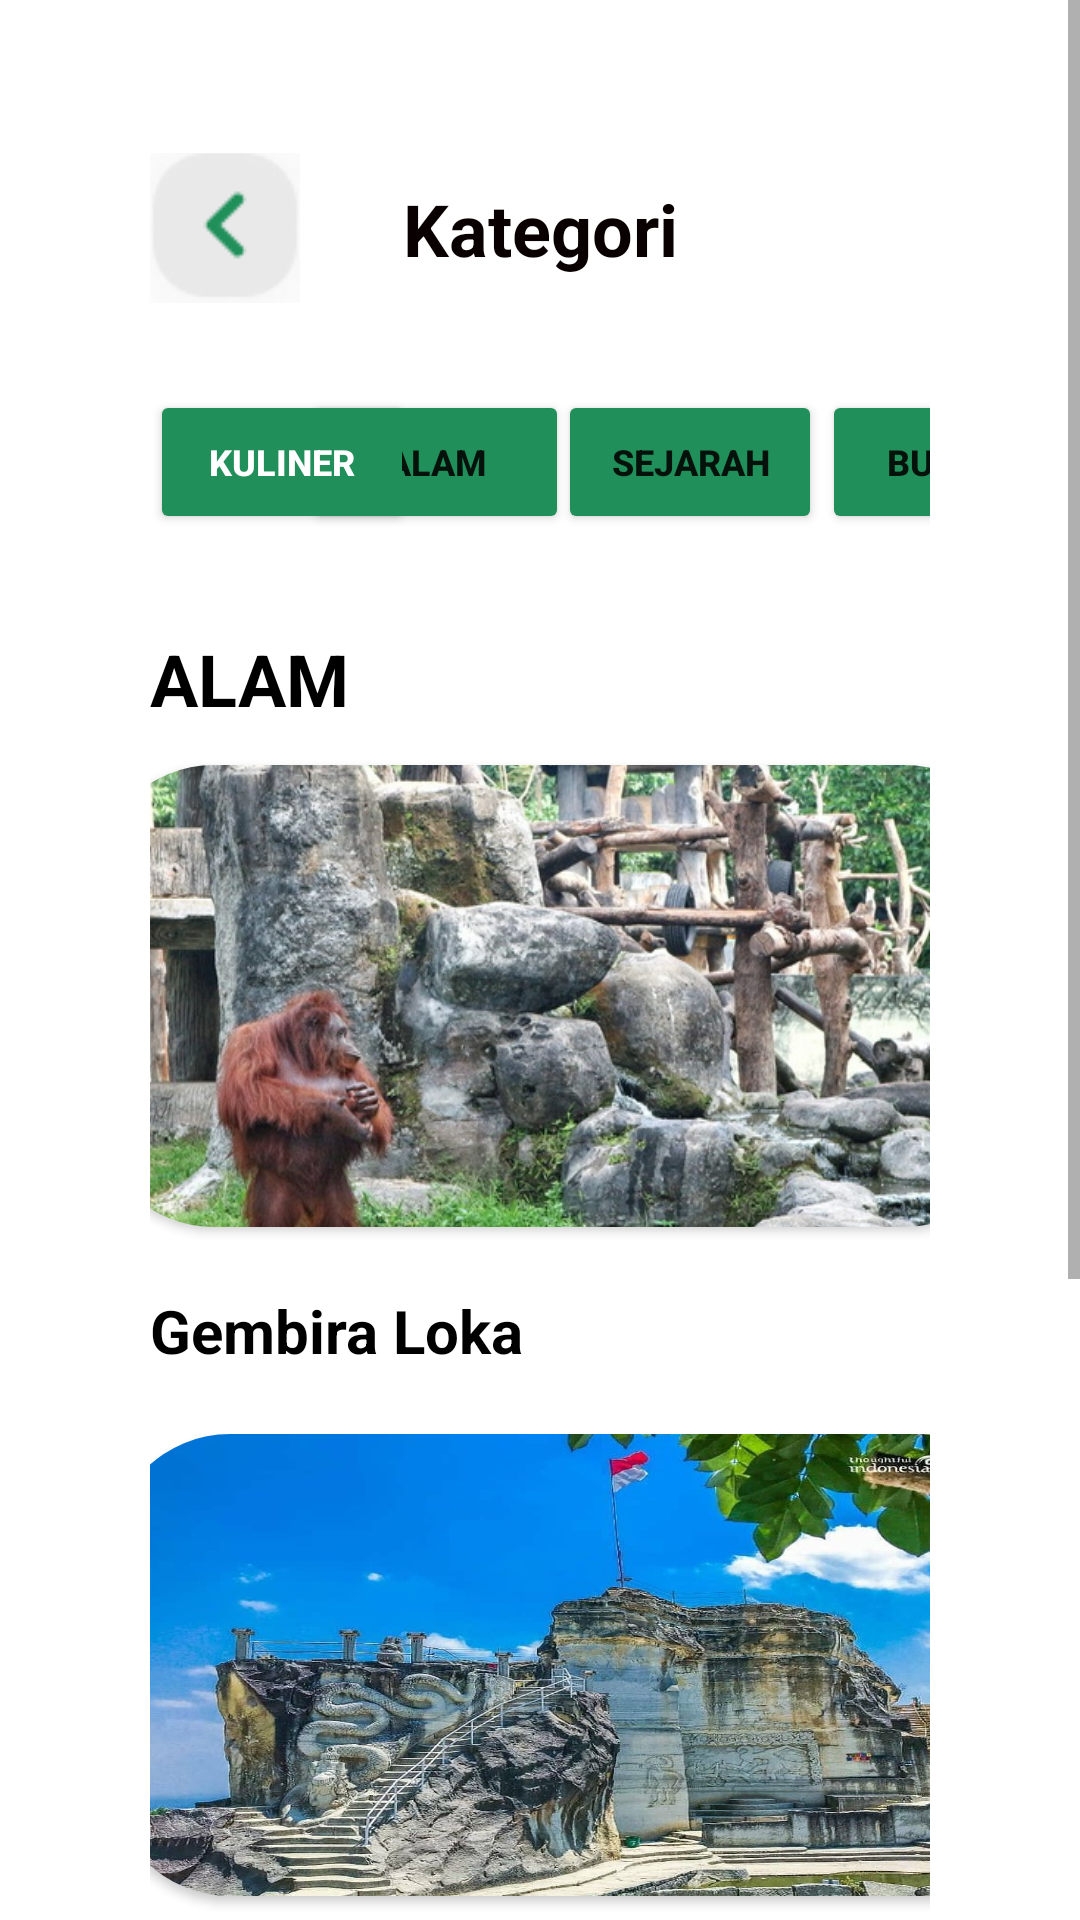

Screen size 1080px x 1920px. Icon name, then its center in pixels as [x,y]:
back: [225,225]
